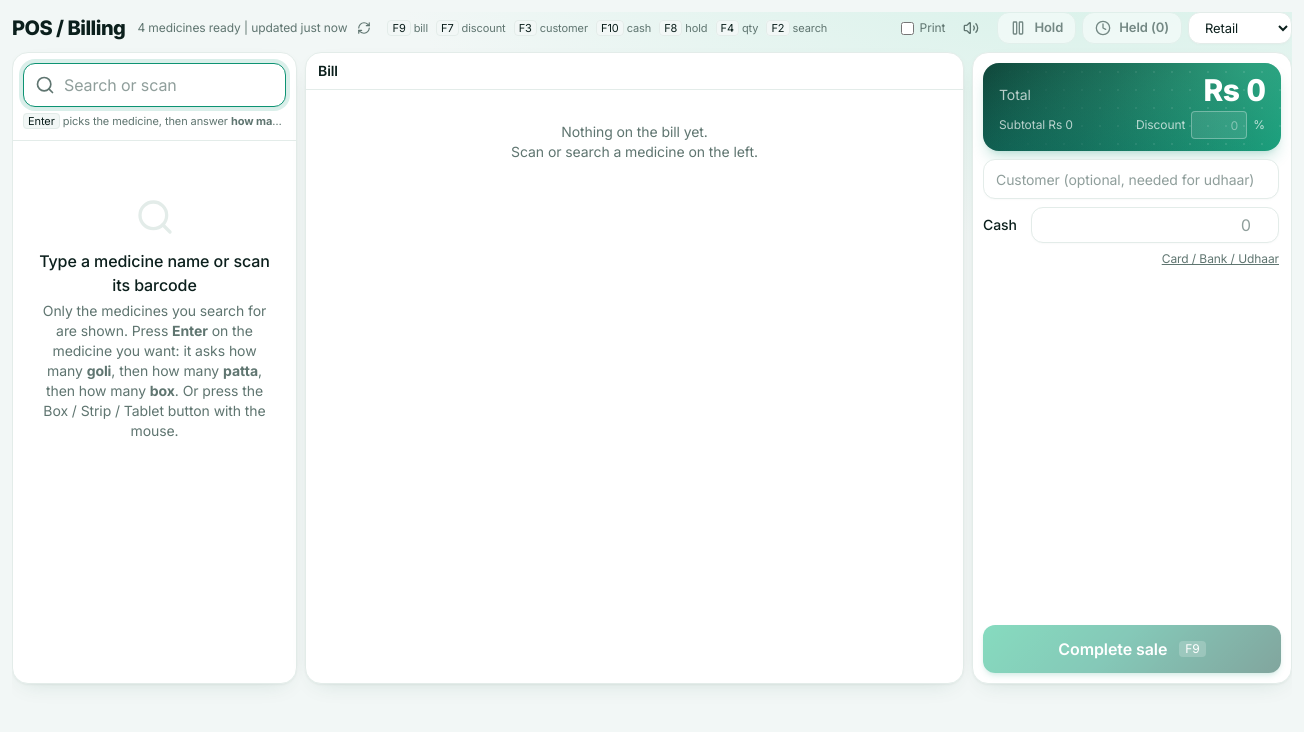
Scenario: POS counter › shows no medicine list until you search: only what you type or scan appears
The width and height of the screenshot is (1304, 732).
Expected: the text "4 medicines ready | updated just now" is shown, [137,20,348,36]
Expected: the text "Type a medicine name or scan its barcode" is shown, [37,248,272,296]
Type "pana" into the field named "Search medicine" at x=154, y=85, box [23,63,286,107]
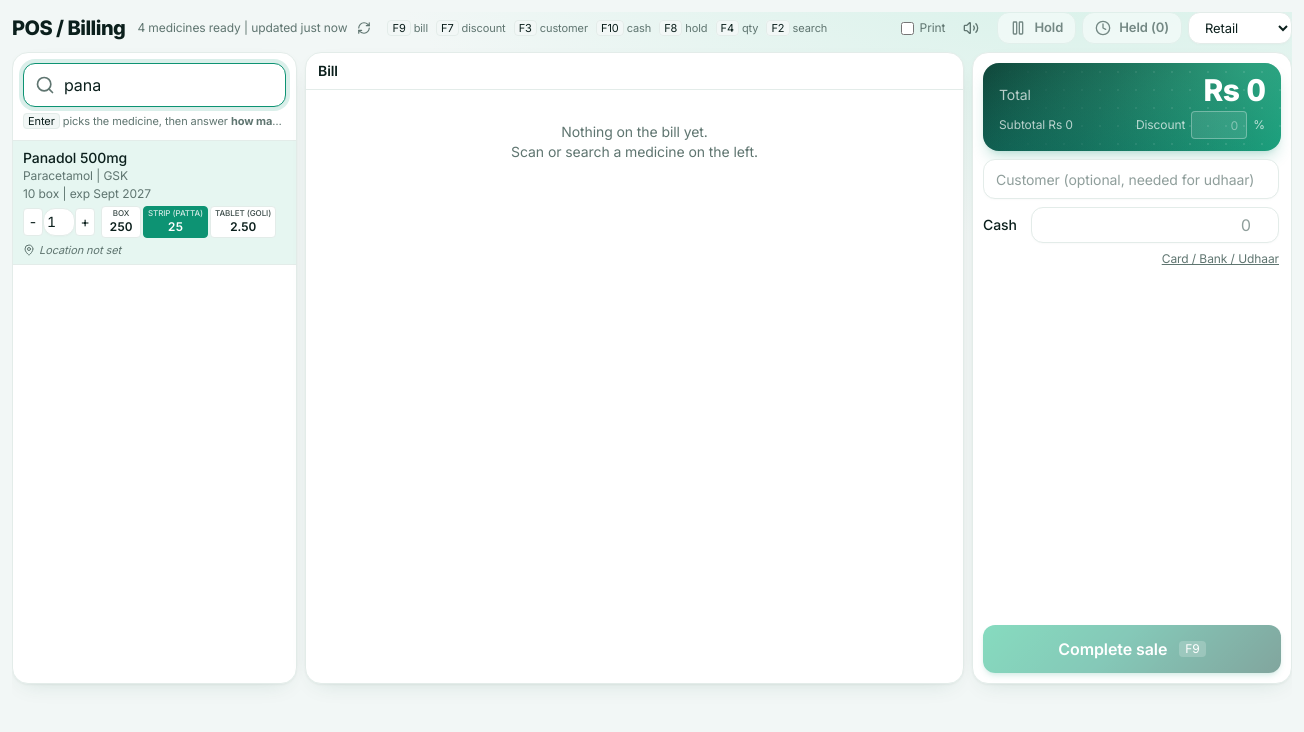
Now the number of options is 1, box [13,140,296,265]
Now the text "Type a medicine name or scan its barcode" is gone
